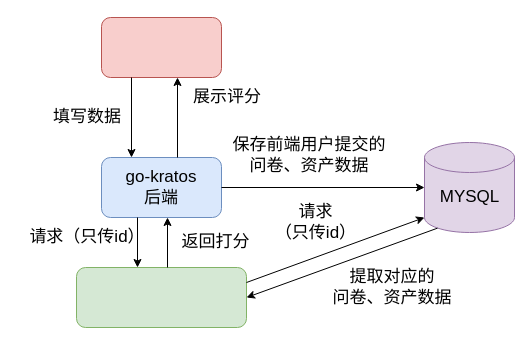
Some shapes in this 532 by 345 pixel diagram are drawn without their labels. Each missing label, with the centre of its shape:
"Flask-AI服务" belongs at point (161, 297).
"前端" belongs at point (161, 47).
